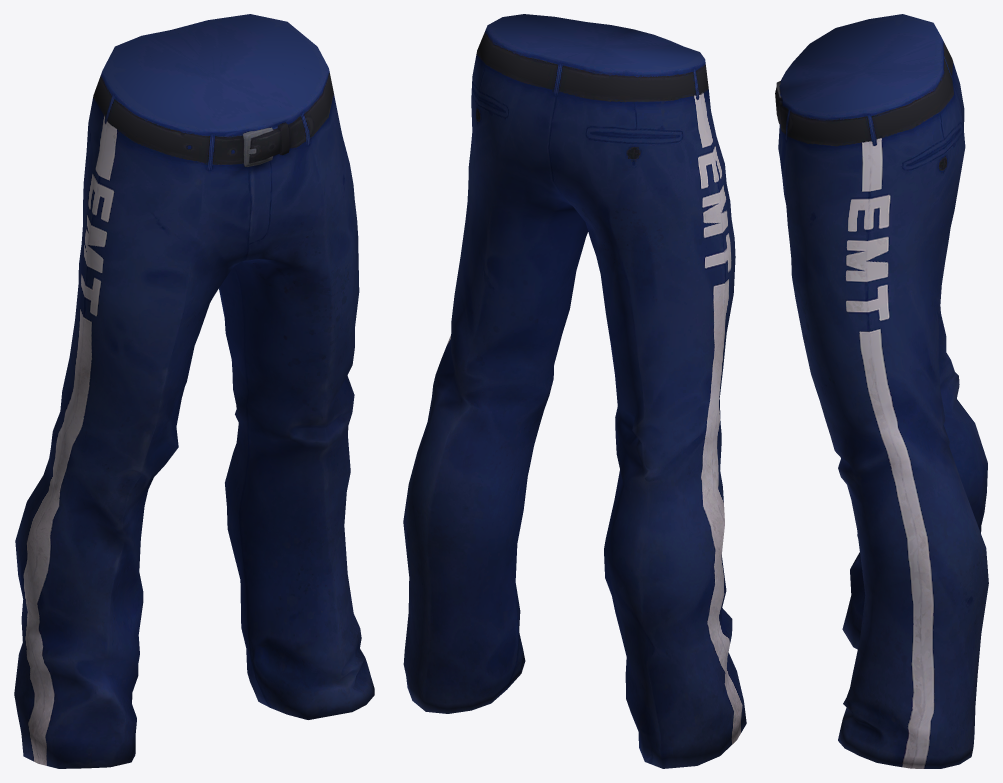
File: SurvivorMale_Legs_Pants_Slacks_LOD0.glb
3 renders of one model, left to right at view 1: azimuth 30°, elevation 25°; view 2: azimuth 150°, elevation 25°; view 3: azimuth 270°, elevation 25°, orthographic. The views are drawn at different scales.
Parts seen in each view (by area): view 1: Hoodie; view 2: Hoodie; view 3: Hoodie.
Boxes of the visible parts, bbox=[...] form: Hoodie: bbox=[14, 14, 374, 768]; Hoodie: bbox=[403, 14, 746, 768]; Hoodie: bbox=[775, 14, 988, 768].
Size of the model in its own units: 0.5188 by 1.04 by 0.3087.
1 material, 1 textured.
